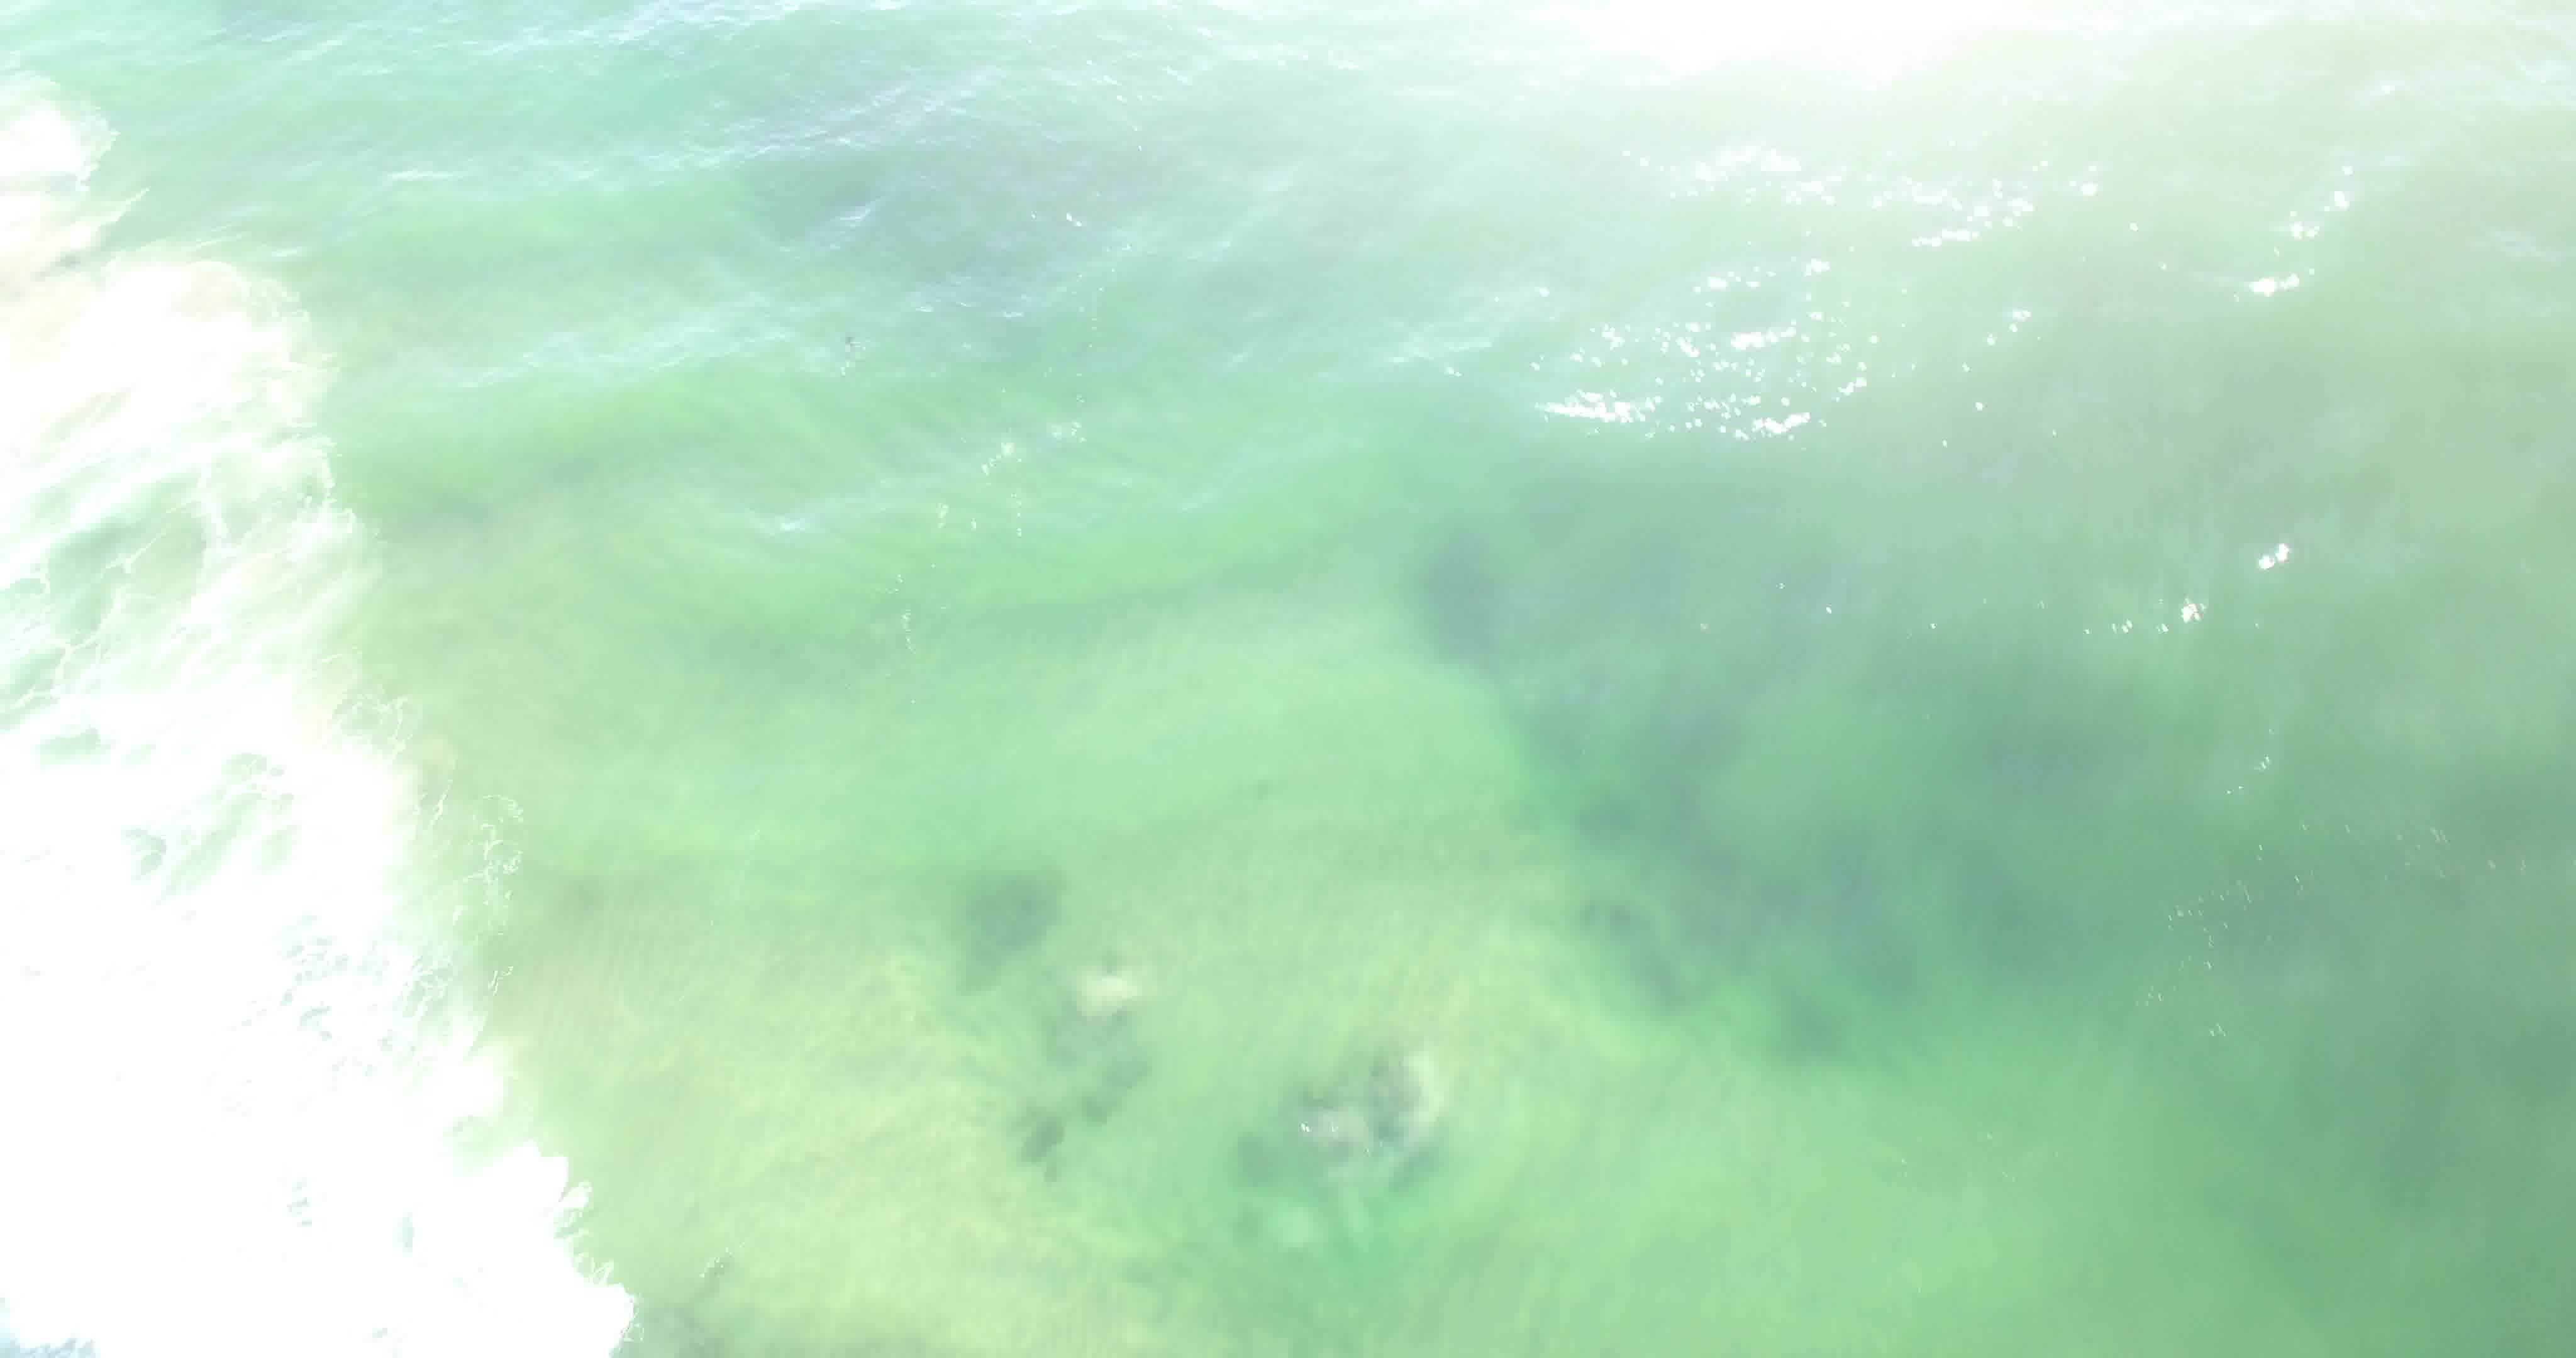dolphin: (821, 310, 877, 377)
